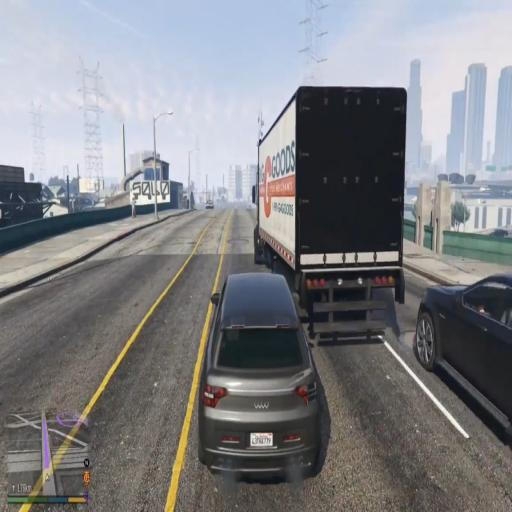Cars: (203, 261, 327, 484), (410, 232, 511, 461)
People: (129, 196, 138, 220)
Trucks: (249, 71, 410, 353)
